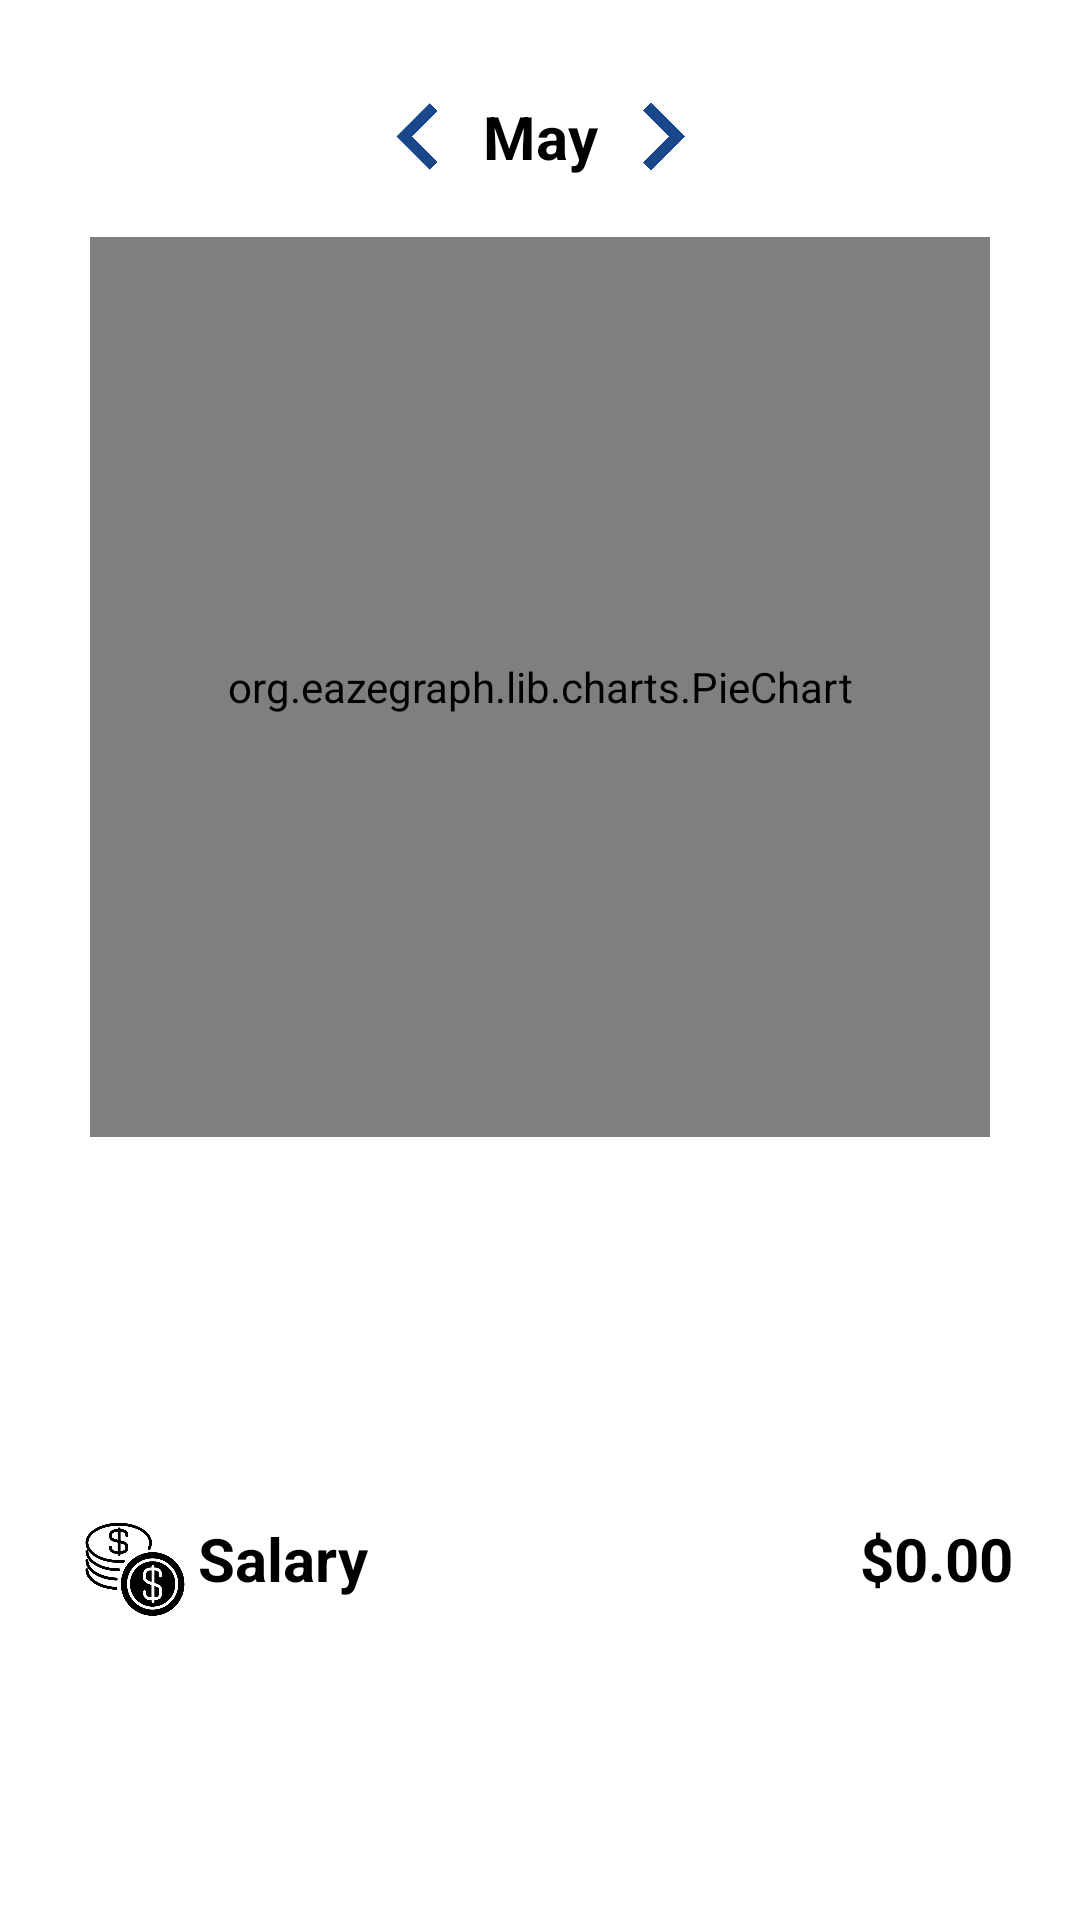

Where to tap for icons on this 1080 x 1920 app screen, as point (x, y):
left budget: point (416, 136)
right budget: point (664, 136)
